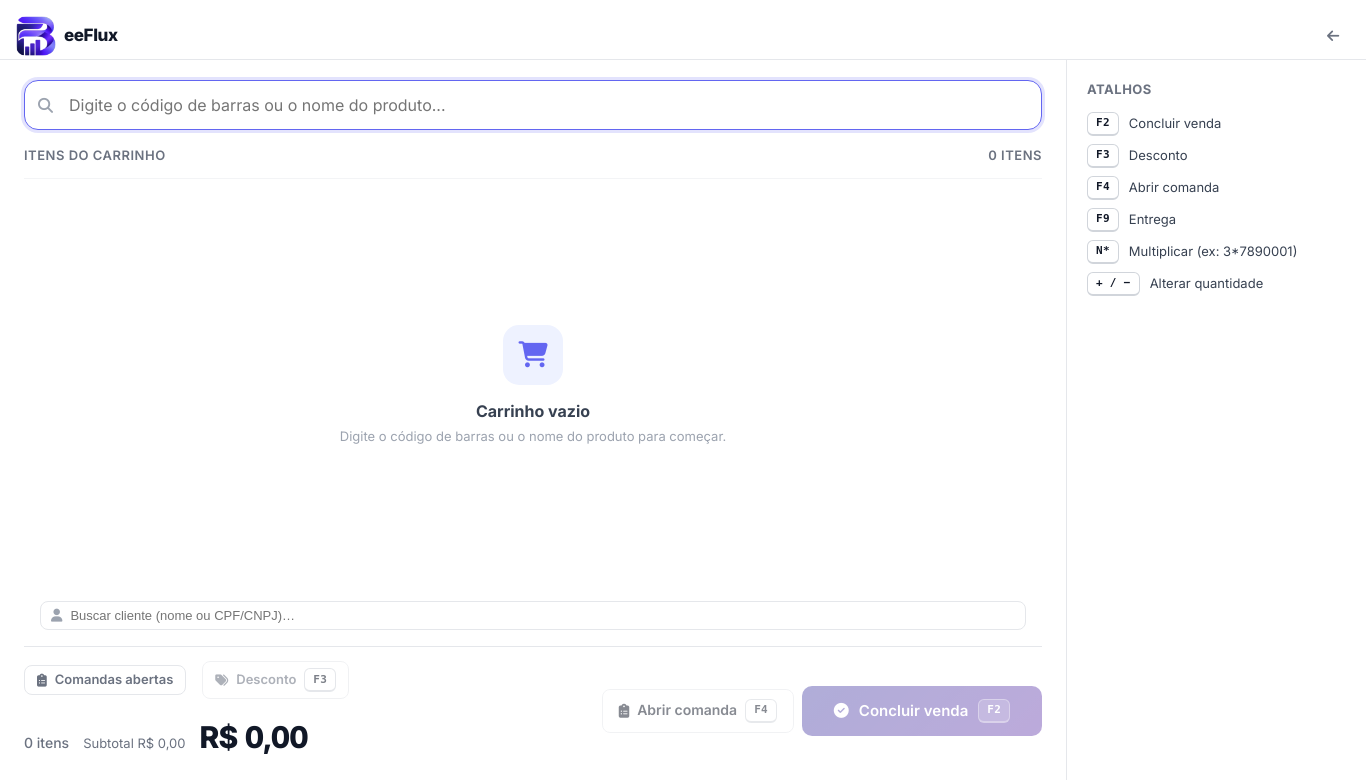
Test: PdvView › adiciona item por busca + Enter e mostra total
In the field with placeholder "Digite o código de barras ou o nome do produto...": (533,105) [24, 80, 1042, 130], type "arildo"
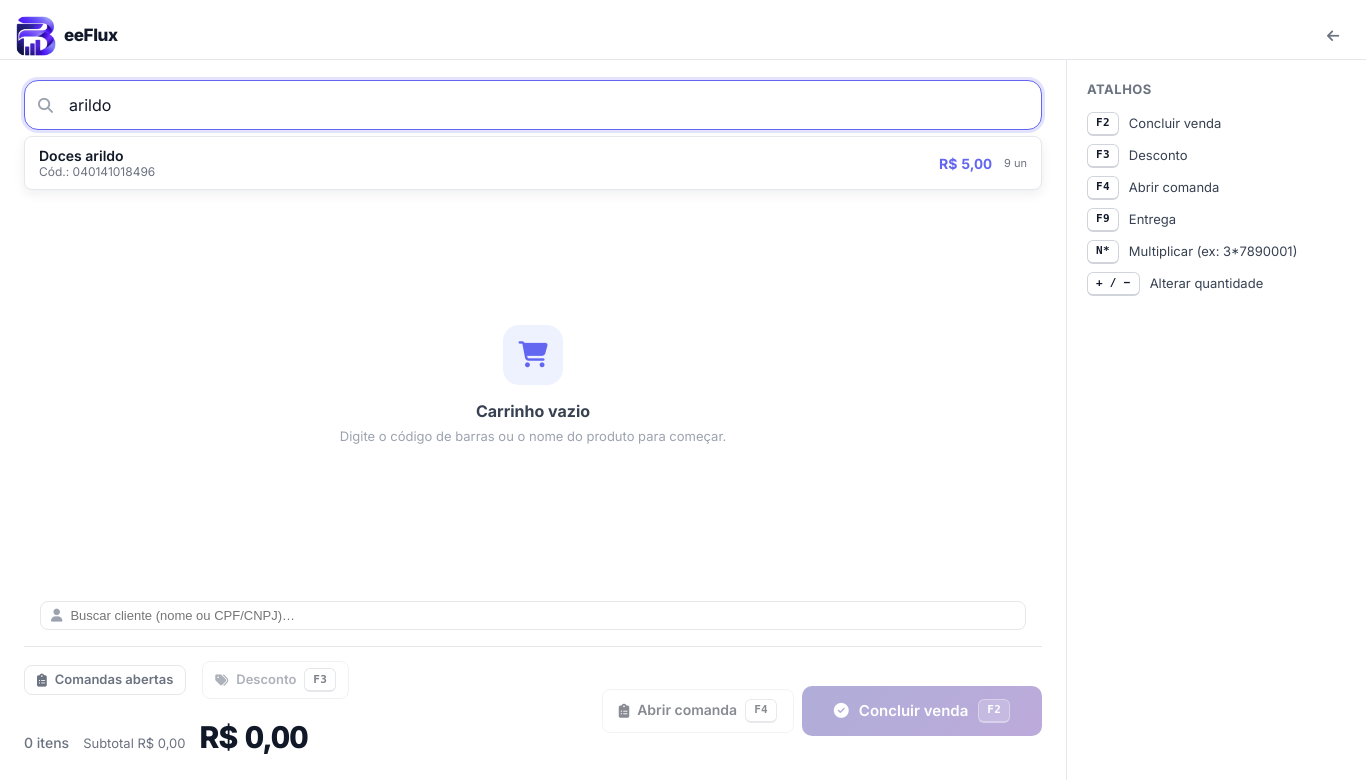
Press Enter in the 1st field, box [24, 80, 1042, 130]
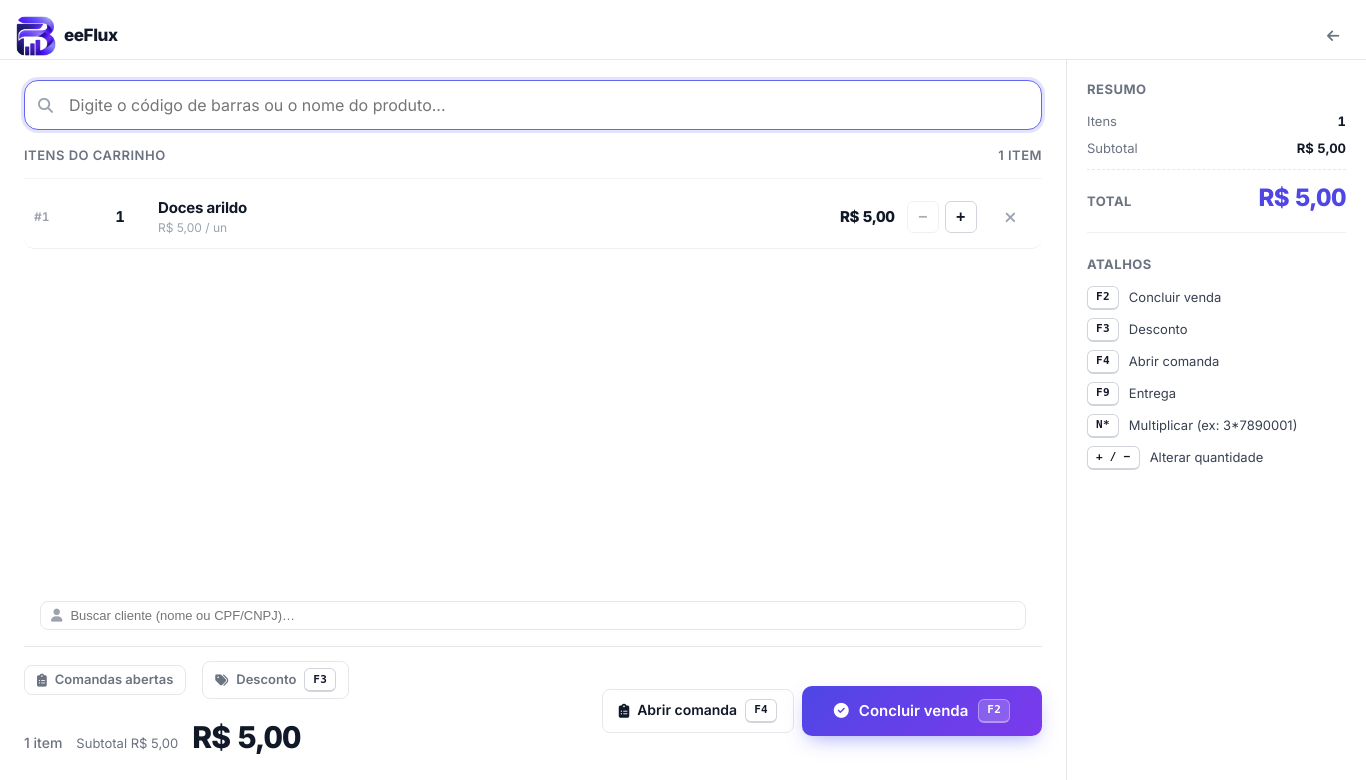
Expected: the text "Doces arildo" is shown, [158, 198, 247, 217]
Expected: the text with id "cart-count" reads "1 item", [998, 147, 1042, 163]
Expected: the text with id "cart-total" reads "R$ 5,00", [192, 719, 300, 755]
